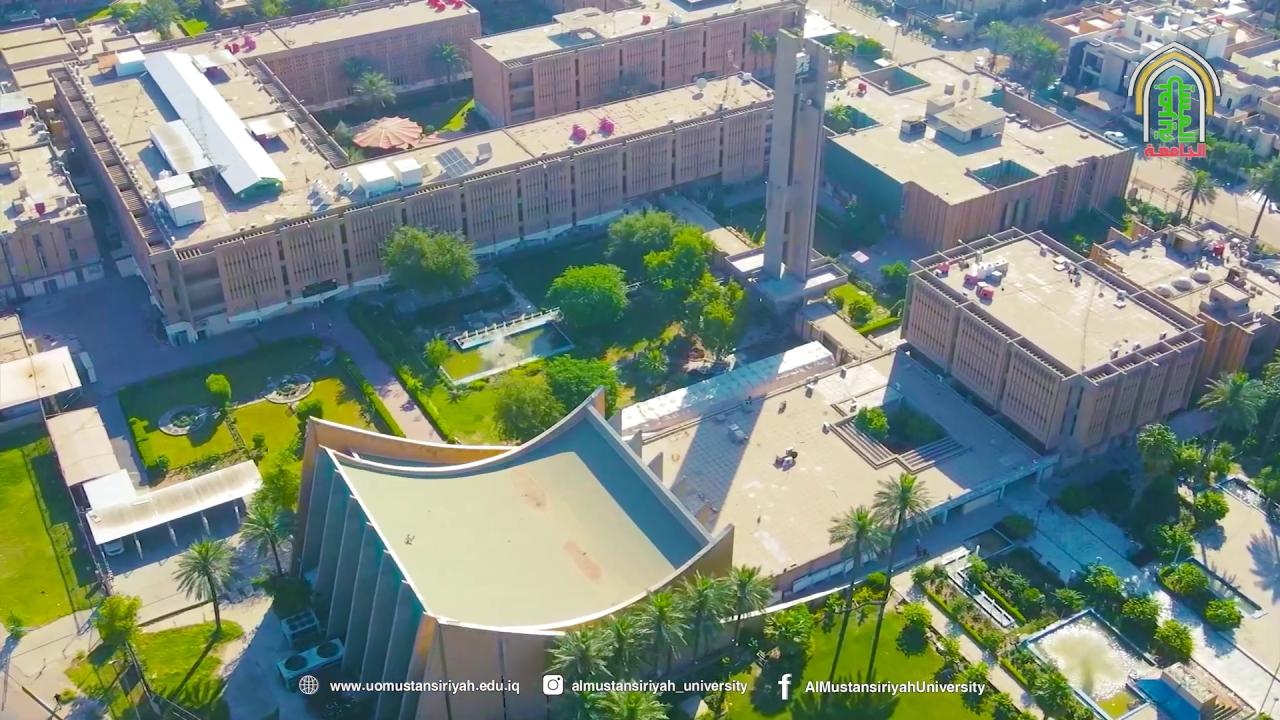car: (101, 538, 124, 556), (1104, 130, 1128, 144)
fountain: (435, 306, 574, 388), (1026, 613, 1138, 702), (450, 305, 562, 351)
tree: (864, 470, 932, 684), (825, 504, 889, 685), (378, 222, 479, 295), (541, 622, 617, 718), (91, 592, 155, 700), (870, 470, 931, 582), (544, 261, 630, 335), (171, 537, 239, 630), (602, 206, 685, 282), (489, 369, 566, 445), (671, 567, 730, 662), (541, 353, 625, 418), (683, 272, 745, 360), (632, 588, 690, 678), (715, 562, 775, 645), (1195, 368, 1266, 438), (984, 18, 1064, 79), (851, 570, 892, 685), (238, 495, 295, 577), (826, 503, 888, 573), (1020, 660, 1093, 719), (642, 242, 707, 301), (598, 610, 648, 682), (762, 602, 817, 666), (419, 228, 479, 285), (989, 561, 1044, 621), (1153, 75, 1195, 148), (379, 223, 428, 285), (1243, 155, 1279, 239), (591, 682, 670, 718), (92, 592, 141, 646), (1175, 168, 1217, 225), (1135, 421, 1179, 474), (823, 283, 877, 326), (287, 397, 323, 459), (894, 601, 933, 657), (132, 0, 183, 41), (850, 571, 890, 623), (352, 68, 396, 115), (1152, 618, 1194, 666), (1210, 140, 1252, 188), (1004, 23, 1044, 71), (1158, 561, 1207, 599), (433, 40, 463, 99), (1029, 37, 1063, 89), (261, 466, 300, 511), (931, 632, 964, 684), (1158, 520, 1195, 565), (1119, 594, 1161, 632), (1203, 596, 1243, 631), (828, 32, 856, 81), (1192, 487, 1229, 524), (854, 404, 890, 441), (984, 19, 1010, 69), (1084, 560, 1121, 595), (910, 561, 950, 593), (342, 55, 373, 96), (747, 28, 775, 72), (128, 415, 152, 465), (1251, 463, 1279, 505), (1259, 350, 1279, 408), (1055, 484, 1092, 515), (976, 625, 1006, 663), (421, 335, 452, 371), (204, 372, 231, 412), (824, 94, 851, 133), (1002, 511, 1034, 542), (878, 259, 908, 292), (1051, 586, 1085, 615), (966, 552, 990, 592), (946, 595, 970, 624), (258, 0, 291, 21), (249, 431, 268, 465), (5, 610, 25, 640), (154, 453, 171, 477), (846, 300, 861, 325), (1120, 212, 1135, 237), (1071, 232, 1088, 253), (844, 194, 858, 218), (324, 0, 351, 10)
